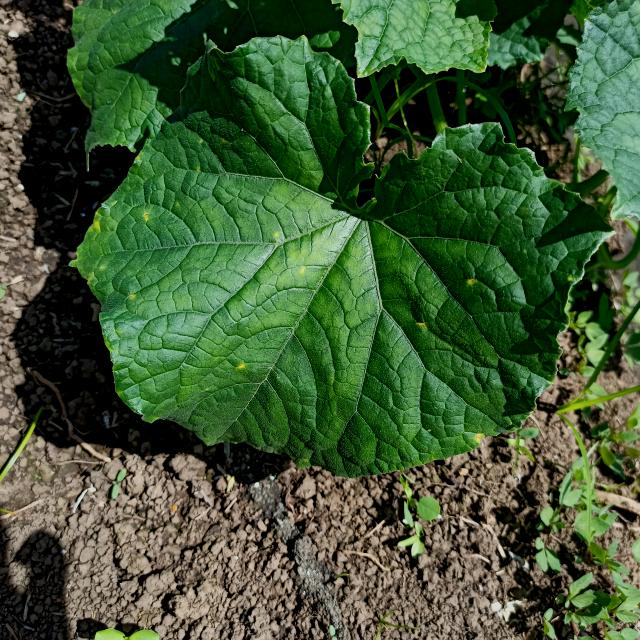disease_cucumber: (89, 214, 102, 232), (476, 433, 484, 442), (567, 275, 575, 283), (468, 278, 475, 287), (417, 321, 427, 327), (143, 212, 150, 220), (300, 268, 306, 275), (134, 155, 140, 161), (238, 364, 245, 369), (275, 233, 280, 238), (130, 294, 136, 298), (196, 168, 201, 172)
